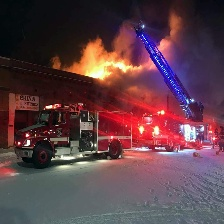fire: (88, 60, 124, 80)
smoke: (65, 2, 217, 58)
